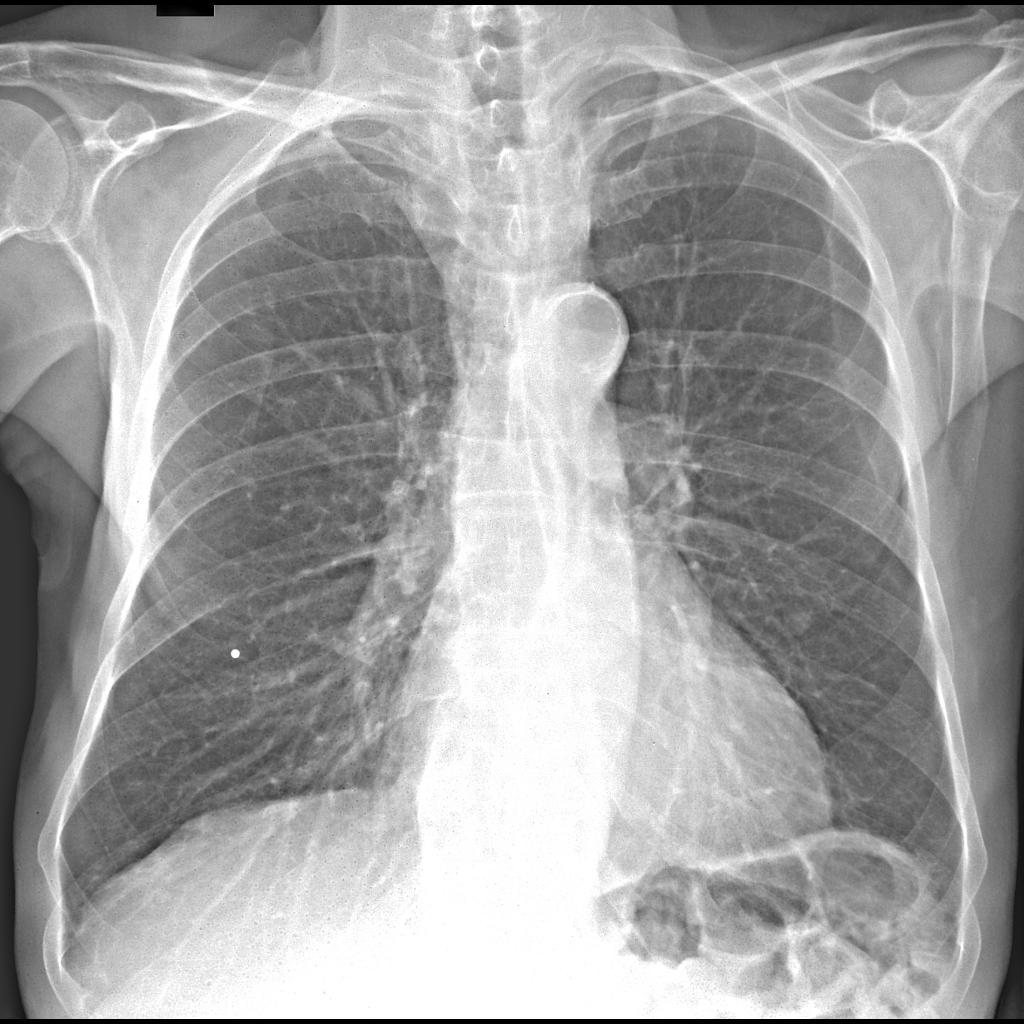Nodule: (772, 597, 824, 640)
